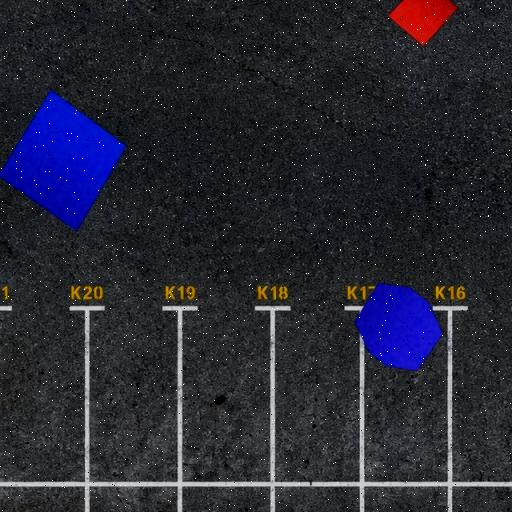BLUE_SQUARE: (0, 89, 127, 232)
RED_SQUARE: (388, 0, 458, 47)
